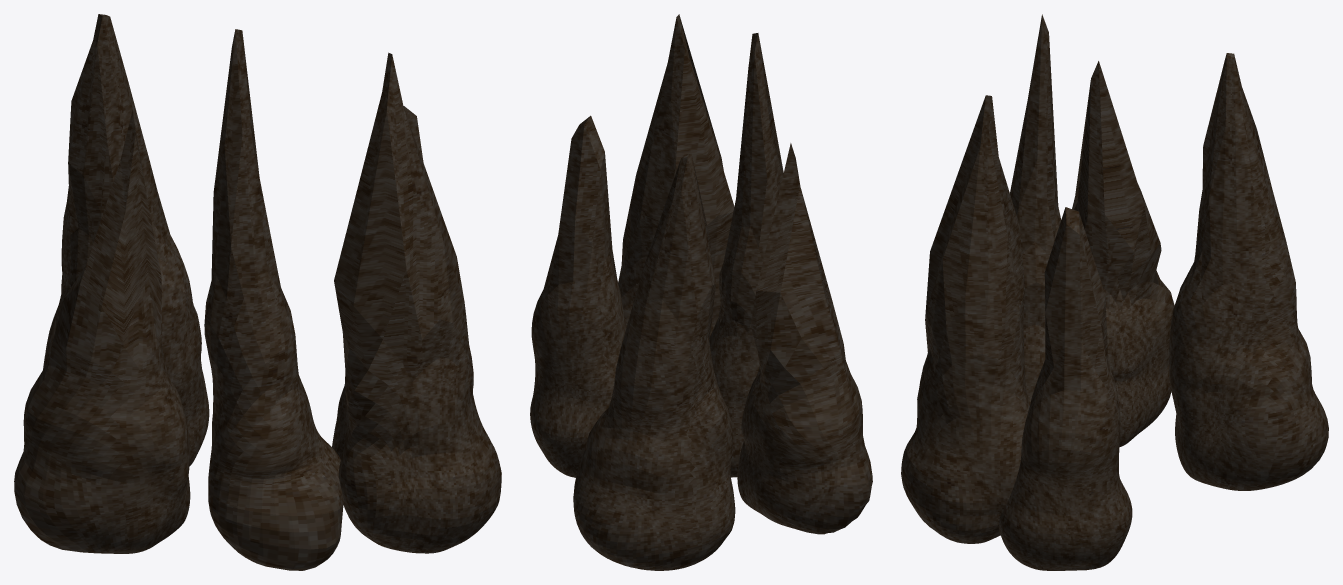
Rendered from stalakmite1.glb.
3 renders of one model, left to right at view 1: azimuth 30°, elevation 25°; view 2: azimuth 150°, elevation 25°; view 3: azimuth 270°, elevation 25°, orthographic. The views are drawn at different scales.
Parts seen in each view (by area): view 1: Cube.004; view 2: Cube.004; view 3: Cube.004.
Part boxes in pixels (box(x1,y1,x2,y2)): Cube.004: box(14, 14, 501, 570); Cube.004: box(530, 14, 872, 570); Cube.004: box(901, 14, 1328, 570).
Size of the model in its own units: 1.07 by 1.33 by 1.09.
Materials: 1 (1 with a texture image).
